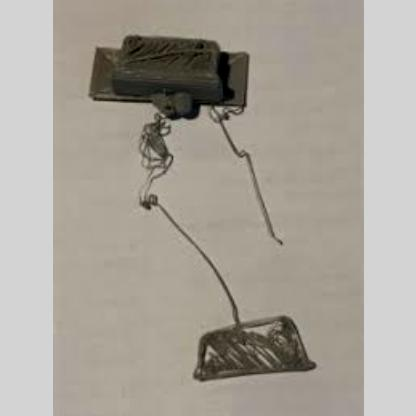fail: (128, 117, 284, 316)
